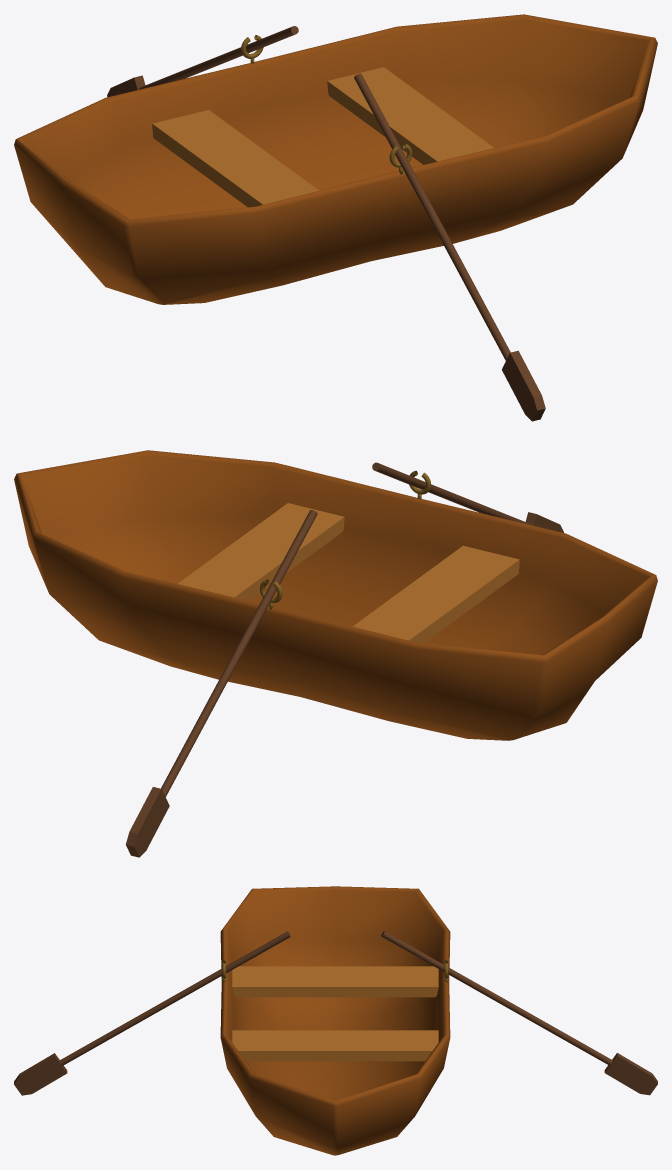
File: Simple Boat.glb
3 renders of one model, top to bottom at view 1: azimuth 30°, elevation 25°; view 2: azimuth 150°, elevation 25°; view 3: azimuth 270°, elevation 25°, orthographic. The views are drawn at different scales.
Parts seen in each view (by area): view 1: Boat, Plank1, BoatHandleRight, BoatHandleLeft; view 2: Boat, Plank1, BoatHandleLeft, BoatHandleRight; view 3: Boat, Plank1, BoatHandleRight, BoatHandleLeft.
Part boxes in pixels (left/top/right/bottom): Boat: left=14, top=14, right=657, bottom=304; Plank1: left=152, top=67, right=493, bottom=207; BoatHandleRight: left=354, top=73, right=545, bottom=421; BoatHandleLeft: left=107, top=26, right=298, bottom=97; Boat: left=14, top=450, right=657, bottom=740; Plank1: left=178, top=503, right=519, bottom=643; BoatHandleLeft: left=125, top=510, right=317, bottom=857; BoatHandleRight: left=372, top=462, right=563, bottom=532; Boat: left=220, top=886, right=450, bottom=1155; Plank1: left=232, top=966, right=438, bottom=1061; BoatHandleRight: left=14, top=931, right=290, bottom=1095; BoatHandleLeft: left=381, top=931, right=657, bottom=1095.
Size of the model in its own units: 2.87 by 1 by 3.6.
